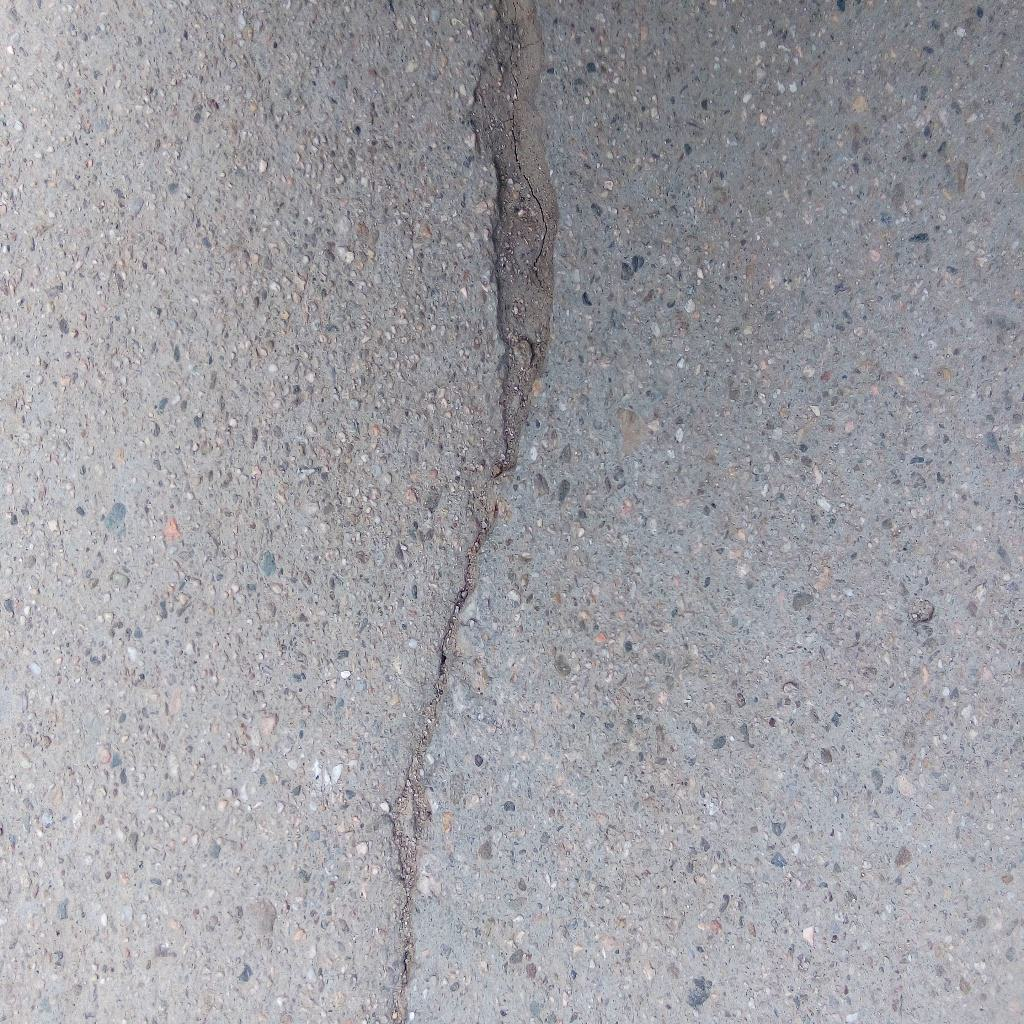Crack: (388, 473, 507, 1024), (509, 1, 547, 266)
Spalling: (466, 1, 561, 473)
